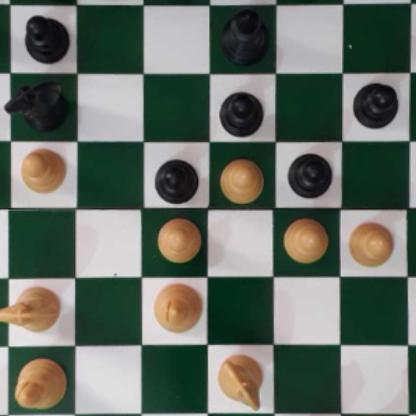black-bishop: (222, 7, 268, 65)
black-knight: (4, 78, 65, 128)
black-pawn: (23, 11, 67, 63), (218, 89, 265, 137), (352, 79, 398, 128), (153, 156, 200, 202), (288, 149, 332, 198)
white-bishop: (14, 356, 68, 415), (152, 281, 204, 332)
white-king: (349, 415, 409, 416)
white-knight: (0, 285, 60, 335), (215, 352, 265, 409)
white-pawn: (346, 218, 394, 268), (19, 146, 67, 194), (215, 156, 265, 201), (282, 216, 328, 264), (156, 214, 201, 261)
